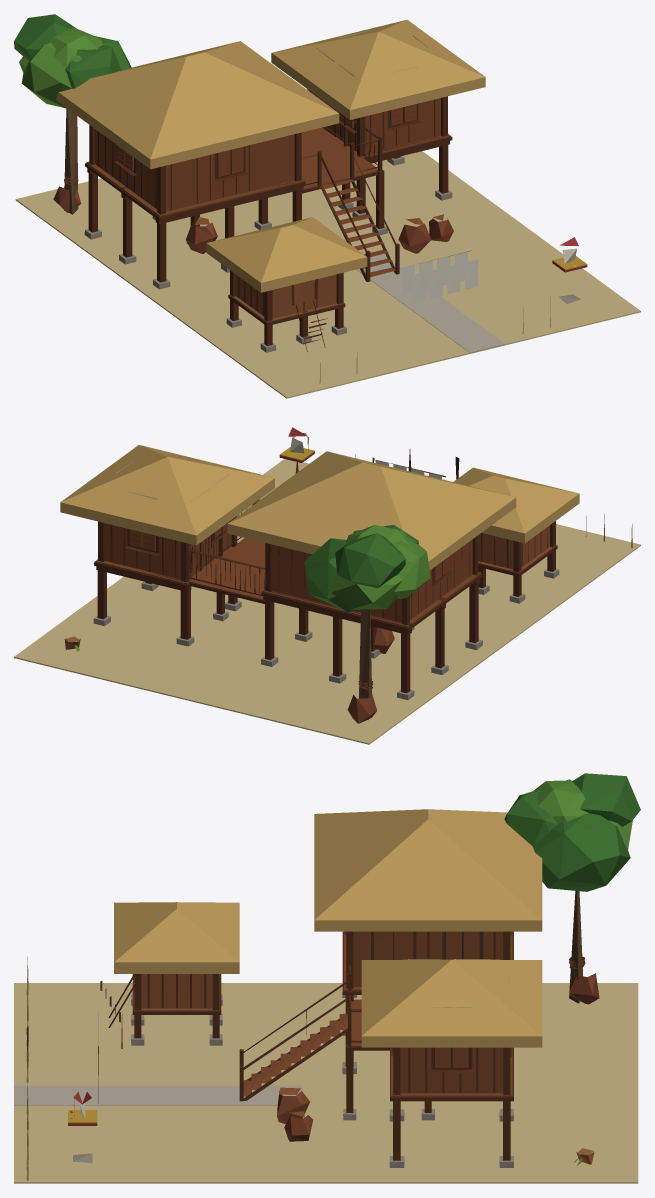
Rendered from house12_2.glb.
3 renders of one model, top to bottom at view 1: azimuth 30°, elevation 25°; view 2: azimuth 150°, elevation 25°; view 3: azimuth 270°, elevation 25°, orthographic. The views are drawn at different scales.
Parts seen in each view (by area): view 1: body; view 2: body; view 3: body.
Part boxes in pixels (x1=…): body: x1=14, y1=14, x2=640, y2=398; body: x1=14, y1=427, x2=640, y2=744; body: x1=14, y1=773, x2=640, y2=1183.
Bounding box in the file's own units: 12.72 × 6.36 × 15.97.
